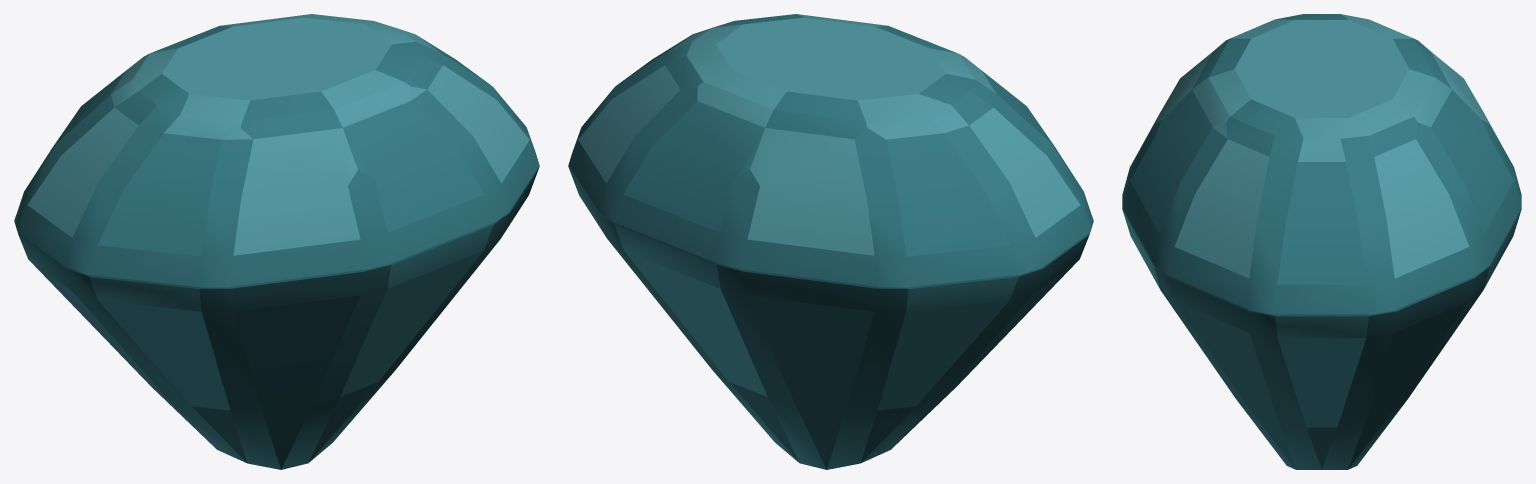
Rendered from Gem_21.glb.
3 renders of one model, left to right at view 1: azimuth 30°, elevation 25°; view 2: azimuth 150°, elevation 25°; view 3: azimuth 270°, elevation 25°, orthographic.
Parts seen in each view (by area): view 1: Gem_21; view 2: Gem_21; view 3: Gem_21.
Part boxes in pixels (bbox=[...]): Gem_21: bbox=[14, 14, 539, 469]; Gem_21: bbox=[568, 14, 1093, 469]; Gem_21: bbox=[1122, 14, 1521, 469].
Size of the model in its own units: 1.02 by 0.8163 by 0.7567.
